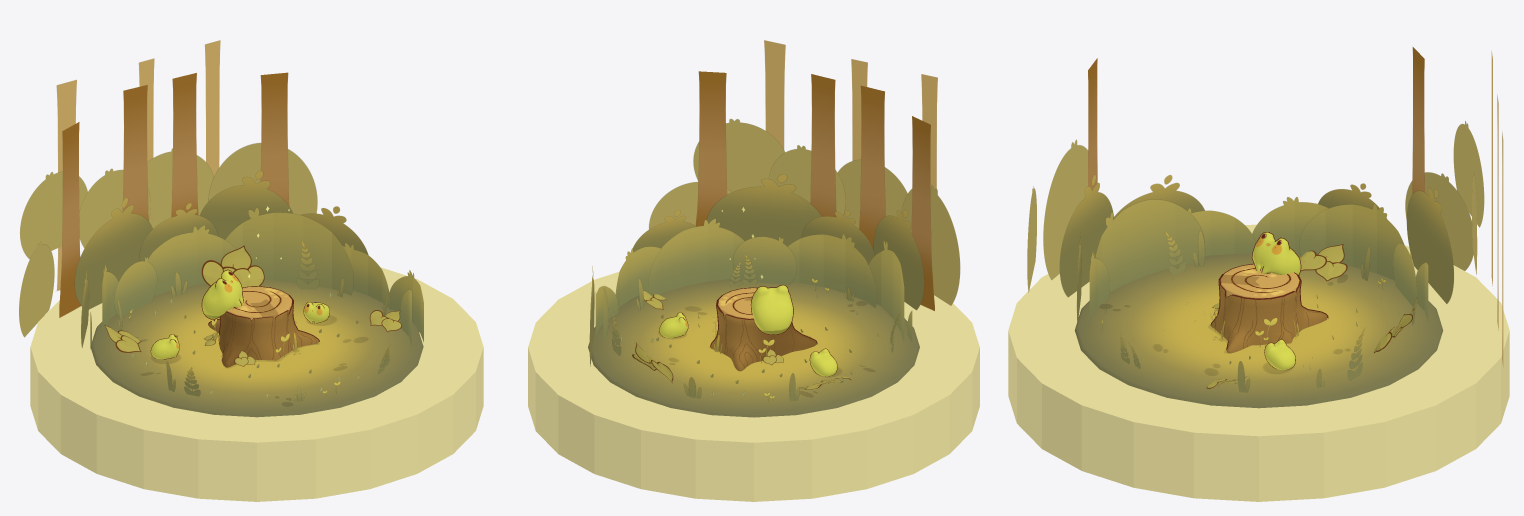
Rendered from showroom2.glb.
3 views of the same model, side by side, from view 1: azimuth 30°, elevation 25°; view 2: azimuth 150°, elevation 25°; view 3: azimuth 270°, elevation 25° (orthographic). The views are drawn at different scales.
Visible parts, largest first — view 1: Base, Background, Stump, Leaf_2.002, Frog_1, Leaft_3.001, Frog_2, Leaf_2.001; view 2: Base, Background, Stump, Frog_1, Frog_2, Frog_3; view 3: Base, Background, Stump, Frog_1, Leaf_2.001, Frog_3.
Boxes of the visible parts, left/top/right/bottom form: Base: left=30, top=267, right=483, bottom=501; Background: left=19, top=40, right=423, bottom=349; Stump: left=208, top=286, right=319, bottom=367; Leaf_2.002: left=201, top=245, right=264, bottom=287; Frog_1: left=201, top=269, right=243, bottom=319; Leaft_3.001: left=296, top=240, right=319, bottom=289; Frog_2: left=150, top=334, right=179, bottom=359; Leaf_2.001: left=104, top=325, right=141, bottom=352; Base: left=528, top=271, right=979, bottom=501; Background: left=589, top=40, right=960, bottom=366; Stump: left=709, top=287, right=817, bottom=371; Frog_1: left=750, top=284, right=793, bottom=334; Frog_2: left=809, top=348, right=837, bottom=376; Frog_3: left=659, top=312, right=688, bottom=337; Base: left=1008, top=224, right=1509, bottom=501; Background: left=1027, top=47, right=1503, bottom=366; Stump: left=1210, top=264, right=1328, bottom=353; Frog_1: left=1251, top=232, right=1301, bottom=275; Leaf_2.001: left=1300, top=244, right=1347, bottom=281; Frog_3: left=1264, top=339, right=1295, bottom=370.
Bounding box in the file's own units: 13.6 × 9.57 × 13.6.
Materials: 6 (6 with a texture image).
